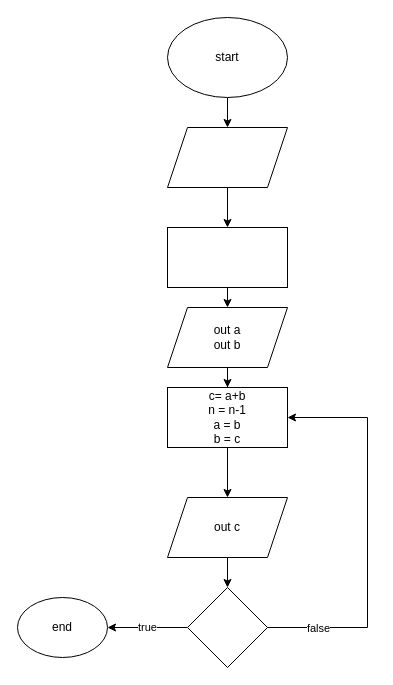
The diagram is 393 pixels wide and 685 high, and some of its shapes have lost their labels. The shapes that lost their labels are listed below. From the top down, each one's centre as x and y in pixels, then its label:
At point 227,157: "in n".
At point 227,257: "a = 1 b = 1".
At point 227,627: "n = 0".
